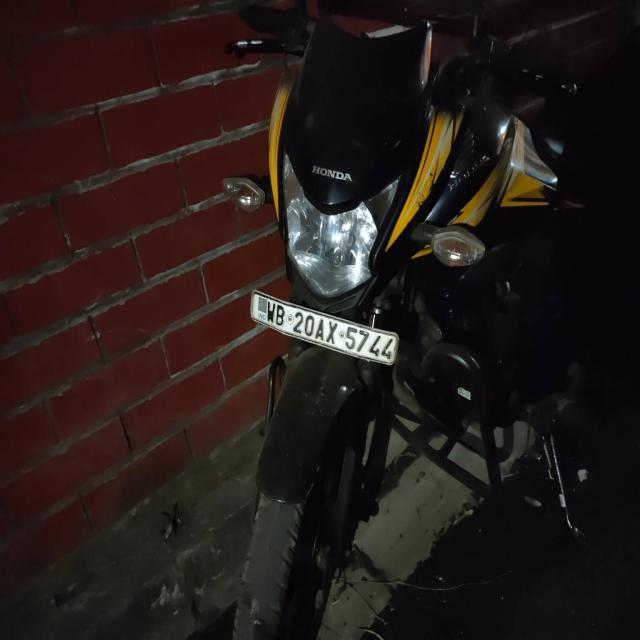license_plate: (247, 288, 401, 368)
